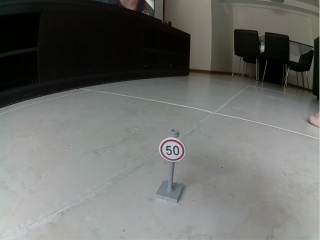Speed Limit 50: (158, 138, 186, 162)
